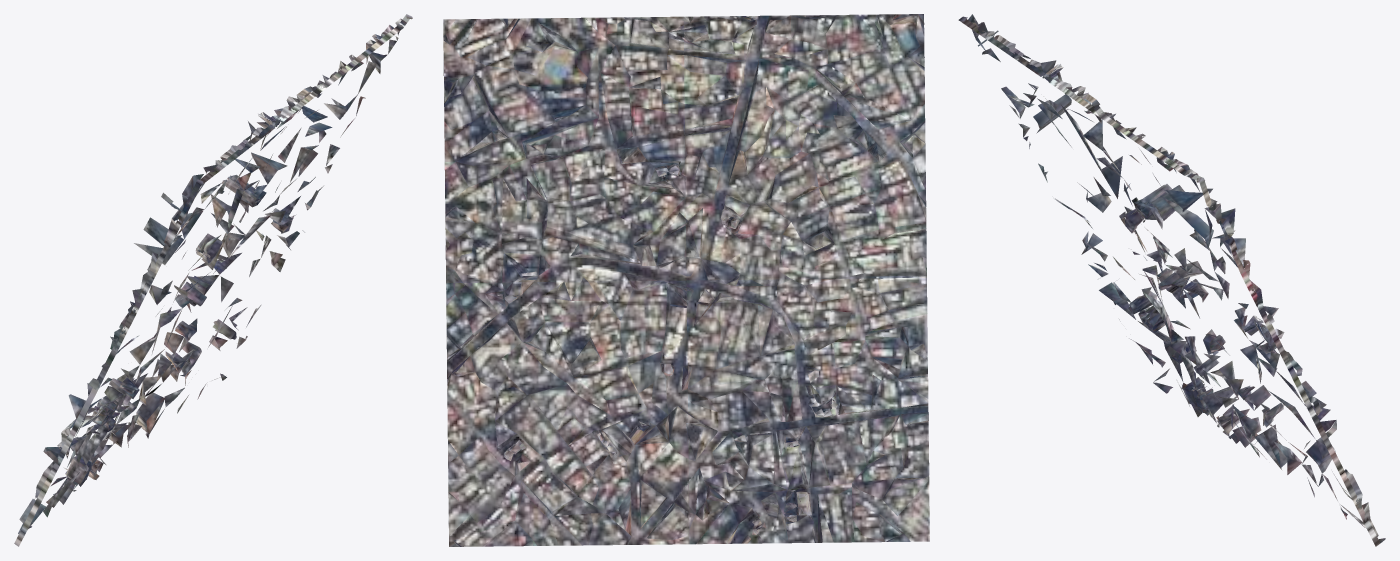
3 renders of one model, left to right at view 1: azimuth 30°, elevation 25°; view 2: azimuth 150°, elevation 25°; view 3: azimuth 270°, elevation 25°, orthographic. The views are drawn at different scales.
Size of the model in its own units: 1222 by 1129 by 1043.
2 materials, 2 textured.
